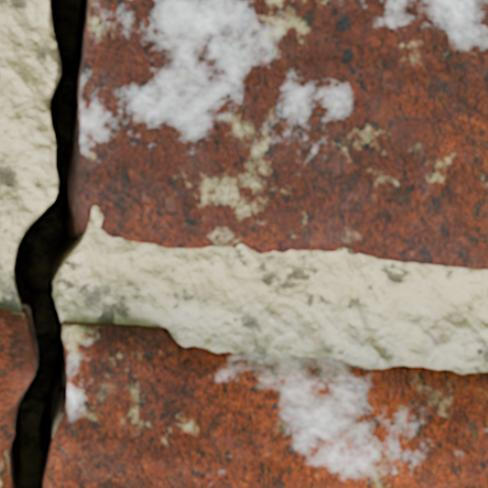brick: (80, 0, 487, 268)
broken_brick: (47, 321, 487, 487), (0, 308, 31, 452), (0, 459, 7, 487)
crack: (0, 0, 90, 487)
